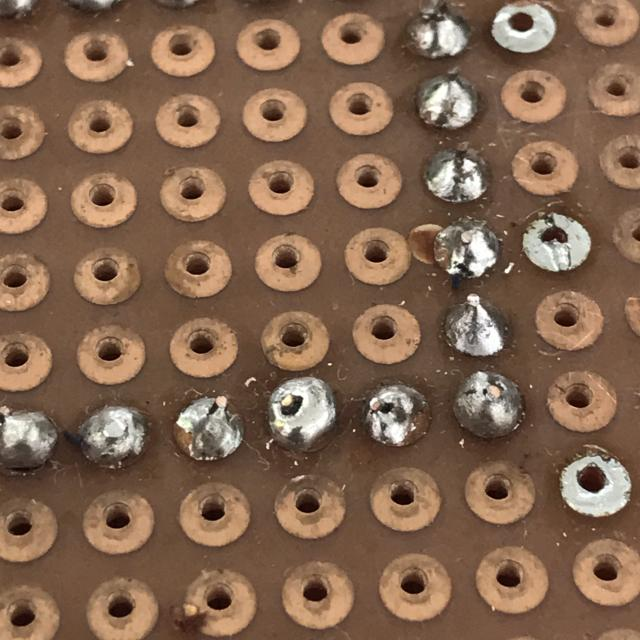good: (444, 363, 535, 448), (435, 291, 521, 365), (406, 65, 489, 138), (415, 140, 498, 212)
hole: (262, 370, 345, 460)
pad_less: (165, 389, 251, 469), (428, 211, 510, 285)
